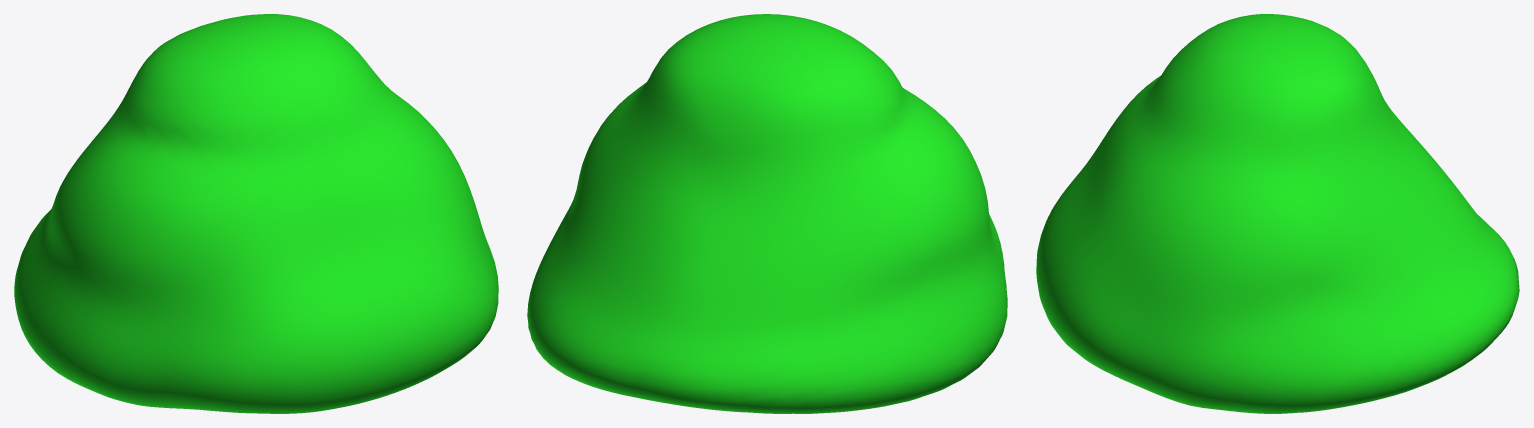
File: slime_enemy.fbx
3 views of the same model, side by side, from view 1: azimuth 30°, elevation 25°; view 2: azimuth 150°, elevation 25°; view 3: azimuth 270°, elevation 25° (orthographic). The views are drawn at different scales.
Parts seen in each view (by area): view 1: Mball.003; view 2: Mball.003; view 3: Mball.003.
Part boxes in pixels (left/top/right/bottom): Mball.003: left=14, top=14, right=498, bottom=413; Mball.003: left=527, top=14, right=1007, bottom=413; Mball.003: left=1036, top=14, right=1519, bottom=413.
Bounding box in the file's own units: 655 × 470 × 682.
